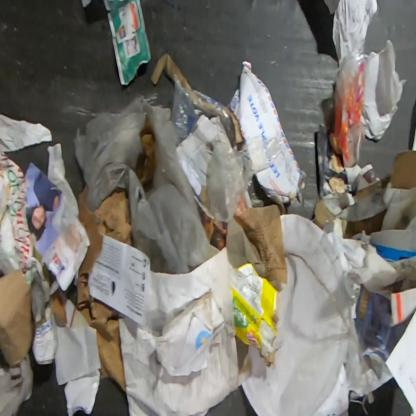cardboard: (75, 182, 134, 395), (229, 60, 308, 206), (0, 152, 51, 324), (314, 122, 382, 216), (230, 263, 282, 368), (0, 268, 35, 369), (63, 368, 102, 415), (369, 227, 416, 264), (343, 209, 387, 239), (389, 148, 416, 188), (313, 197, 334, 229)
rigid_plastic: (328, 48, 366, 168)
soft_plastic: (73, 94, 220, 275), (172, 73, 285, 225)
